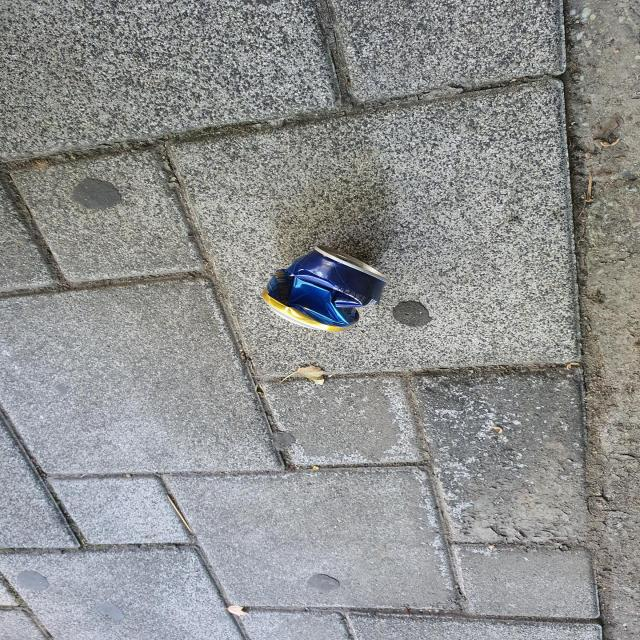can: (261, 246, 387, 332)
